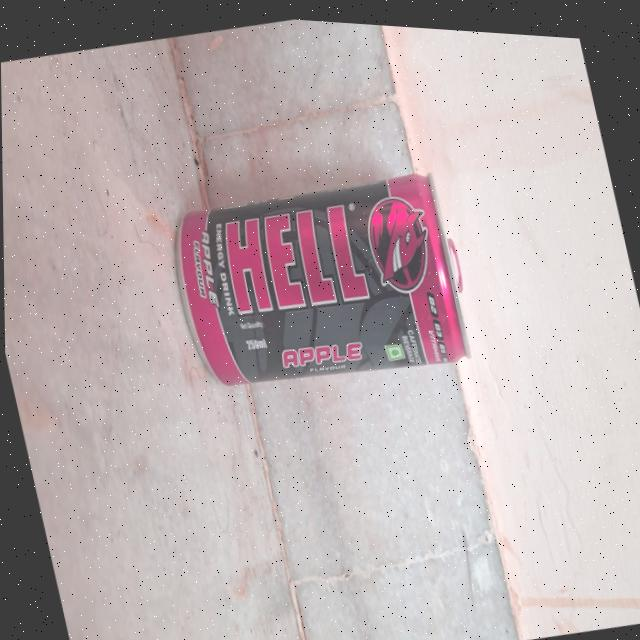Hell Apple: (138, 124, 501, 441)
